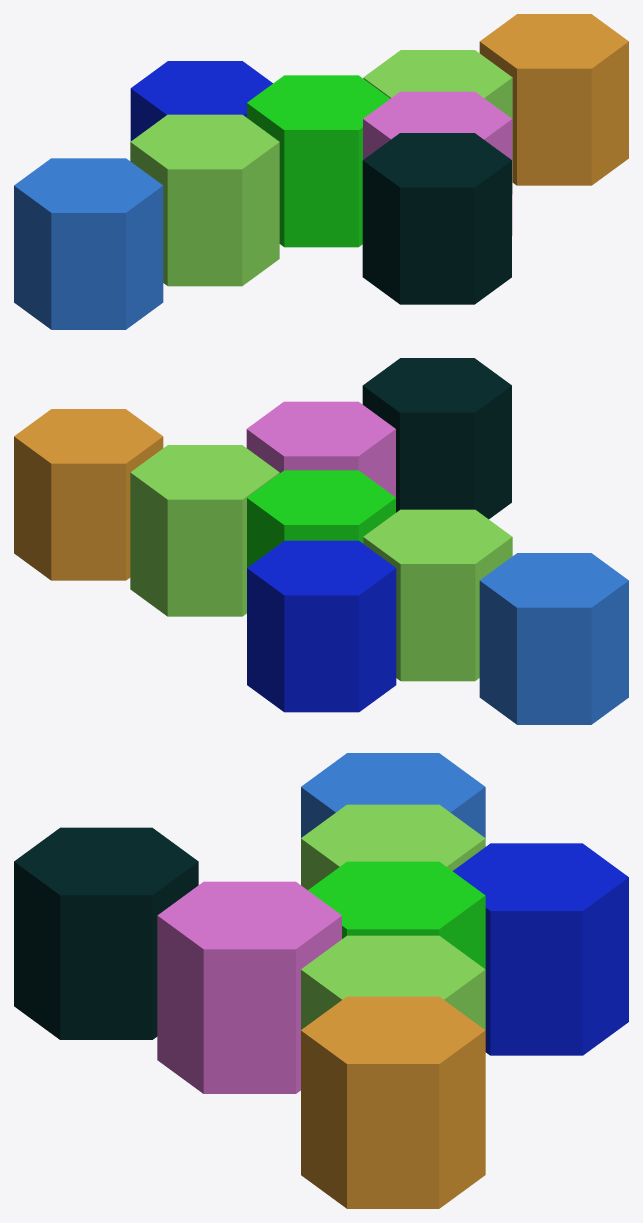
The picture shows the model from 3 angles, top to bottom: view 1: azimuth 30°, elevation 25°; view 2: azimuth 150°, elevation 25°; view 3: azimuth 270°, elevation 25°; orthographic projection. The views are drawn at different scales.
Parts seen in each view (by area): view 1: Cylinder.005, Cylinder.006, Cylinder.004, Cylinder.003, Cylinder, Cylinder.007, Cylinder.001, Cylinder.002; view 2: Cylinder.007, Cylinder.005, Cylinder.003, Cylinder.002, Cylinder.006, Cylinder.004, Cylinder.001, Cylinder; view 3: Cylinder.003, Cylinder.001, Cylinder.006, Cylinder.007, Cylinder, Cylinder.002, Cylinder.004, Cylinder.005.
Part boxes in pixels (x1,y1,x2,y2): Cylinder.005: [14, 158, 163, 329]; Cylinder.006: [362, 133, 511, 304]; Cylinder.004: [130, 114, 279, 286]; Cylinder.003: [479, 14, 628, 185]; Cylinder: [247, 75, 390, 247]; Cylinder.007: [130, 61, 272, 141]; Cylinder.001: [363, 91, 512, 235]; Cylinder.002: [363, 50, 512, 194]; Cylinder.007: [247, 540, 396, 712]; Cylinder.005: [479, 553, 628, 724]; Cylinder.003: [14, 409, 163, 580]; Cylinder.002: [130, 445, 279, 616]; Cylinder.006: [362, 358, 511, 519]; Cylinder.004: [363, 509, 512, 681]; Cylinder.001: [246, 401, 395, 497]; Cylinder: [247, 470, 395, 567]; Cylinder.003: [301, 996, 485, 1208]; Cylinder.001: [157, 881, 341, 1093]; Cylinder.006: [14, 827, 198, 1039]; Cylinder.007: [453, 843, 628, 1055]; Cylinder: [308, 861, 485, 969]; Cylinder.002: [301, 935, 485, 1029]; Cylinder.004: [301, 804, 485, 889]; Cylinder.005: [301, 753, 485, 837].
Bounding box in the file's own units: 39.7 × 11.18 × 29.59.
